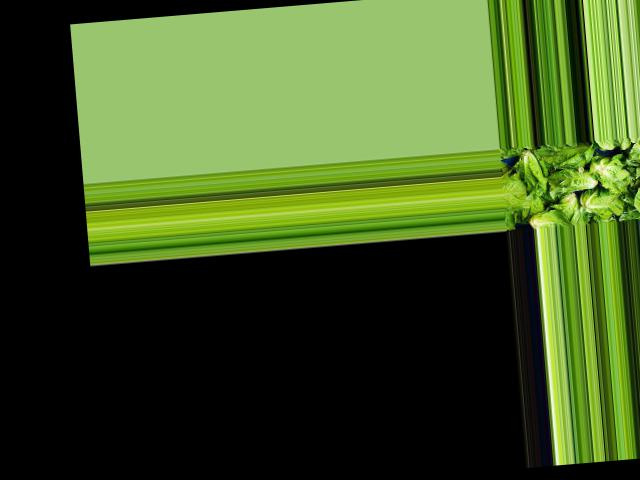lettuce: (521, 206, 572, 229)
